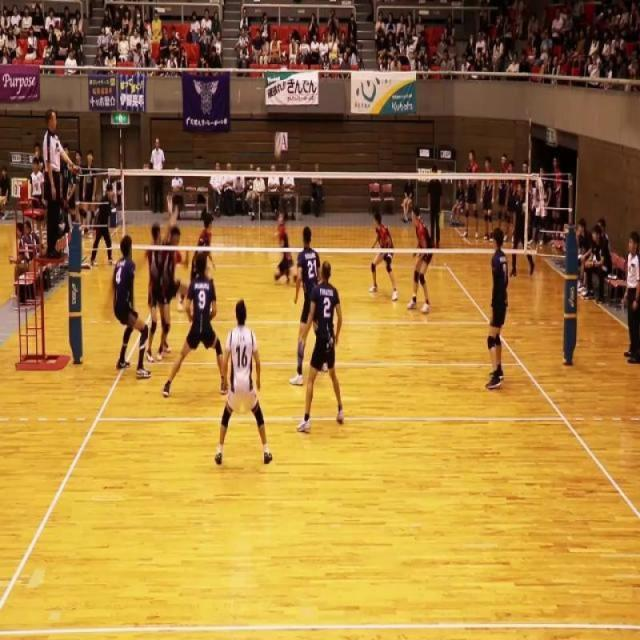volleyball: (274, 132, 282, 160)
